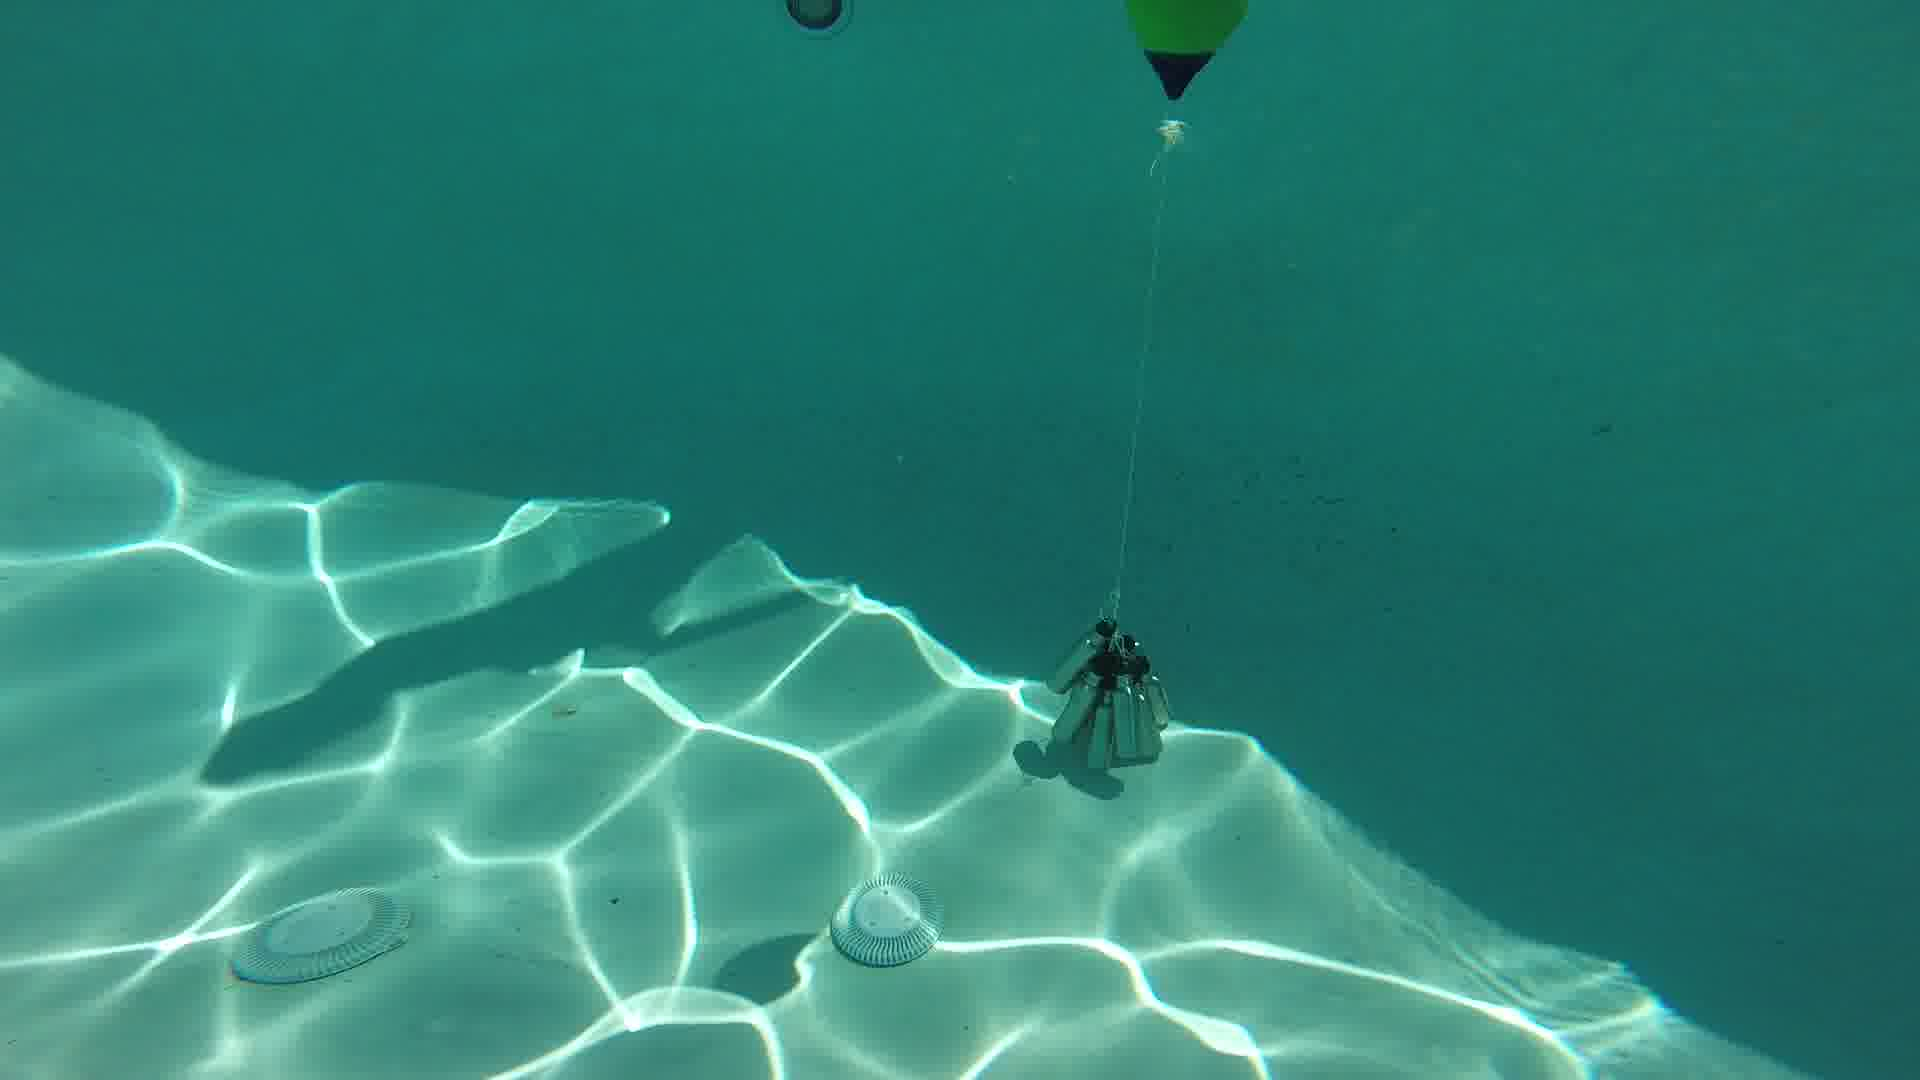yellow_buoy: (1125, 3, 1247, 153)
